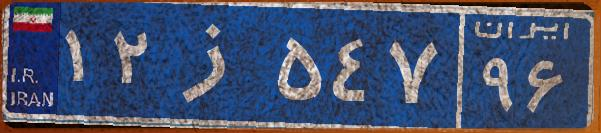1: (57, 26, 110, 107)
2: (110, 28, 158, 105)
4: (330, 28, 385, 110)
5: (273, 28, 330, 110)
6: (525, 38, 570, 115)
7: (385, 28, 445, 110)
9: (475, 38, 525, 113)
ز: (158, 15, 273, 115)
